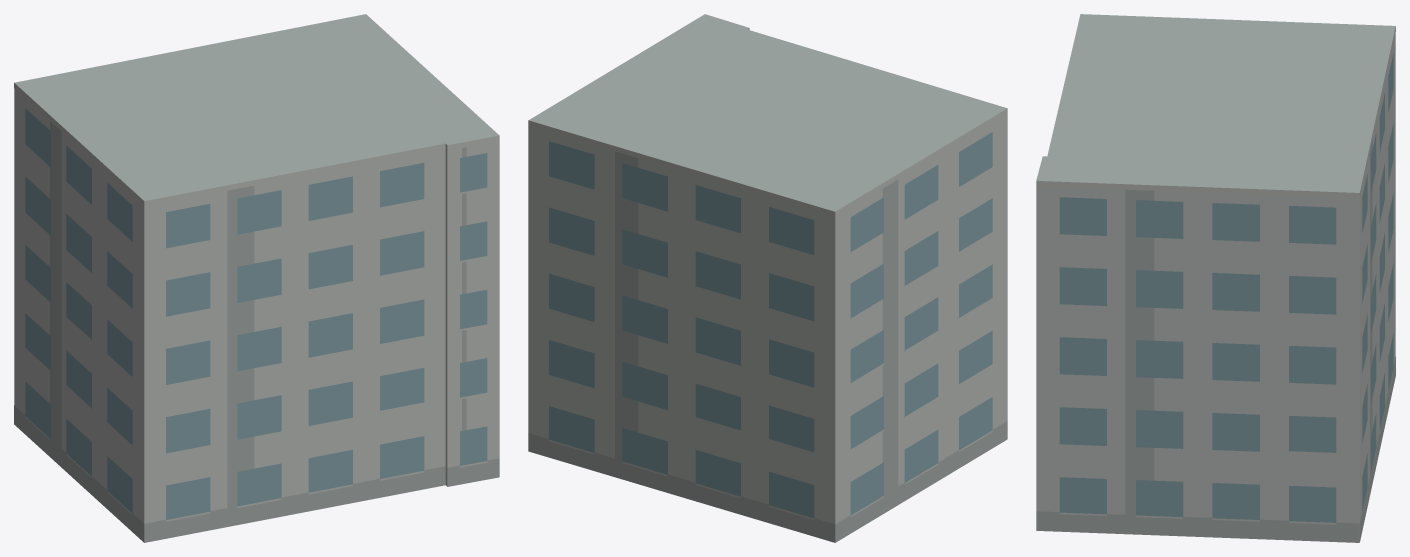
File: survey-upis-32485380.glb
3 views of the same model, side by side, from view 1: azimuth 30°, elevation 25°; view 2: azimuth 150°, elevation 25°; view 3: azimuth 270°, elevation 25° (orthographic). The views are drawn at different scales.
Visible parts, largest first — view 1: survey-upis-32485380.tmp; view 2: survey-upis-32485380.tmp; view 3: survey-upis-32485380.tmp.
Boxes of the visible parts, x1,y1,x2,y2 form: survey-upis-32485380.tmp: (14, 14, 499, 542); survey-upis-32485380.tmp: (528, 14, 1007, 542); survey-upis-32485380.tmp: (1036, 14, 1395, 542).
Bounding box in the file's own units: 16.73 × 15.25 × 14.21.
